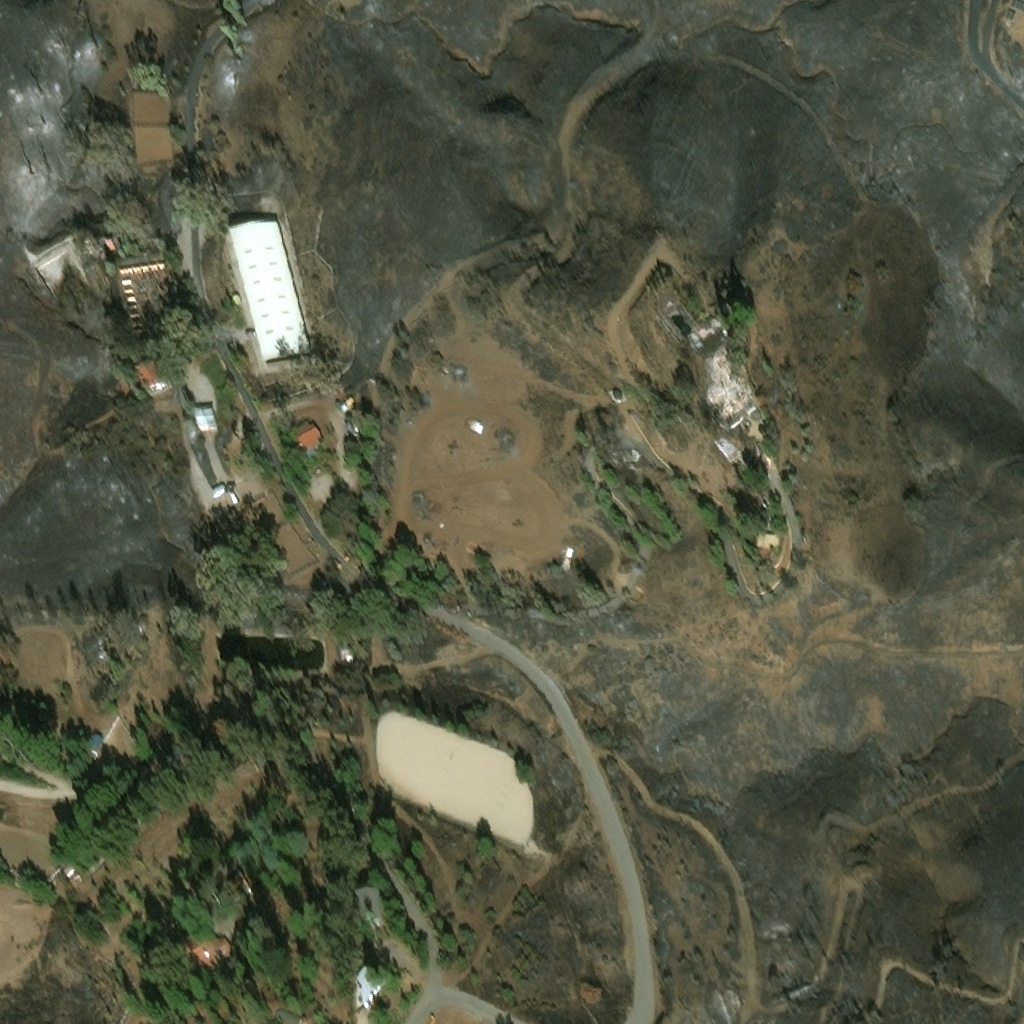0 no-damage: (229, 217, 308, 360), (173, 916, 229, 965), (208, 865, 248, 903), (133, 356, 167, 394), (356, 969, 387, 1010), (290, 421, 322, 457), (357, 894, 383, 930), (141, 940, 167, 971), (167, 744, 190, 767), (195, 407, 217, 429), (274, 1009, 302, 1023), (82, 727, 101, 747), (1008, 0, 1023, 10), (306, 449, 318, 460), (1002, 7, 1013, 18)
2 major-damage: (115, 258, 177, 340), (103, 235, 114, 248)
3 destroyed: (703, 362, 752, 422), (709, 347, 732, 369), (685, 328, 705, 351), (716, 433, 737, 453), (706, 316, 724, 335), (662, 295, 675, 309)
4 un-classified: (759, 537, 783, 556), (758, 447, 771, 472), (735, 446, 752, 461)
